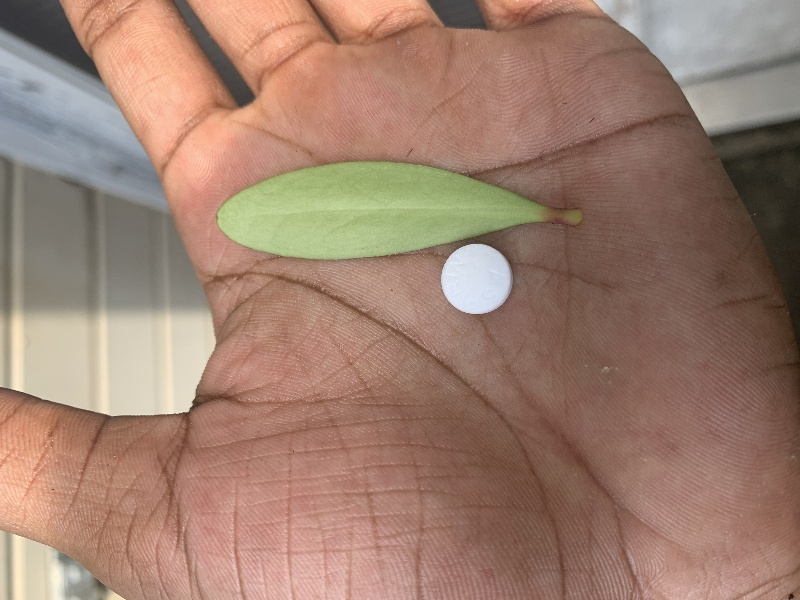Aspirin: (439, 242, 517, 317)
